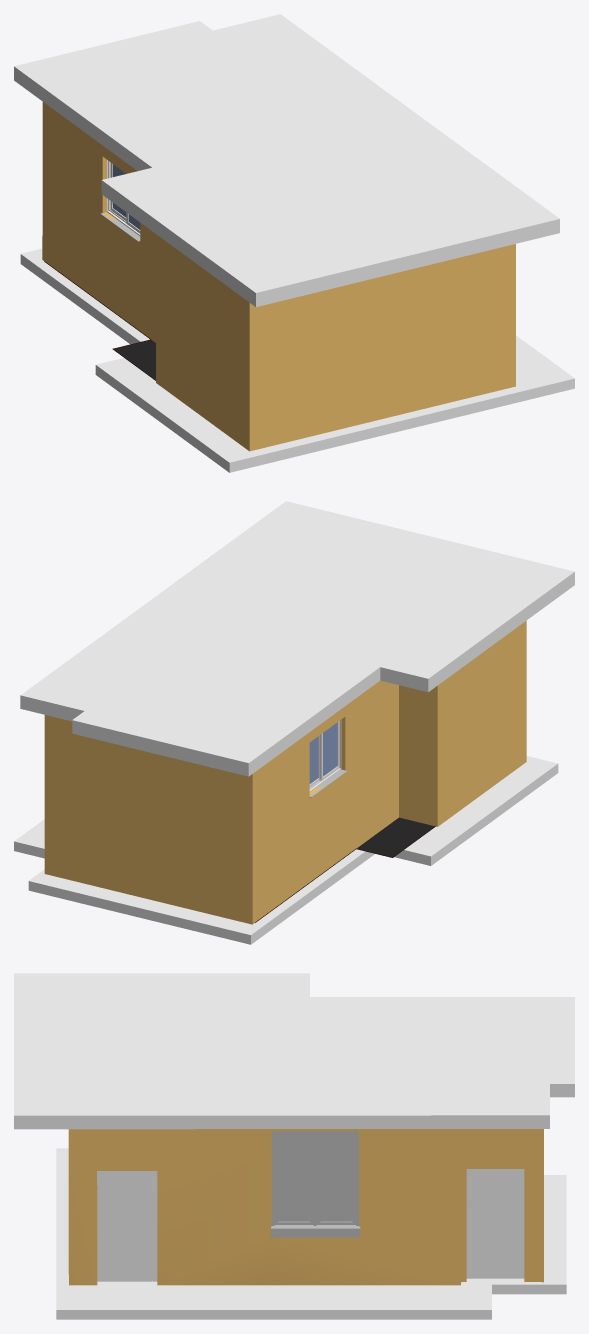
The model's file is FloorPlan18_physics.fbx.
3 renders of one model, top to bottom at view 1: azimuth 30°, elevation 25°; view 2: azimuth 150°, elevation 25°; view 3: azimuth 270°, elevation 25°, orthographic. The views are drawn at different scales.
Visible parts, largest first — view 1: Ceiling.005, Baseboard.026, Floor.005, Floor.006; view 2: Ceiling.005, Baseboard.026, Floor.005, Floor.006, WindowPane2; view 3: Ceiling.005, Baseboard.026, Floor.005, Door.004, Door1, WindowPane3, Window.002, DoorFrame.004, DoorFrame.
Boxes of the visible parts, bbox=[...] form: Ceiling.005: bbox=[14, 14, 559, 306]; Baseboard.026: bbox=[42, 102, 515, 451]; Floor.005: bbox=[20, 248, 574, 472]; Floor.006: bbox=[44, 261, 155, 380]; Ceiling.005: bbox=[20, 501, 574, 776]; Baseboard.026: bbox=[44, 620, 526, 924]; Floor.005: bbox=[14, 756, 558, 944]; Floor.006: bbox=[255, 817, 435, 922]; WindowPane2: bbox=[323, 723, 337, 776]; Ceiling.005: bbox=[14, 973, 574, 1129]; Baseboard.026: bbox=[68, 1129, 543, 1285]; Floor.005: bbox=[56, 1148, 566, 1319]; Door.004: bbox=[102, 1172, 152, 1281]; Door1: bbox=[470, 1169, 520, 1278]; WindowPane3: bbox=[279, 1135, 351, 1220]; Window.002: bbox=[271, 1131, 360, 1237]; DoorFrame.004: bbox=[97, 1171, 157, 1281]; DoorFrame: bbox=[466, 1169, 524, 1278].
Size of the model in its own units: 636 by 343 by 933.
